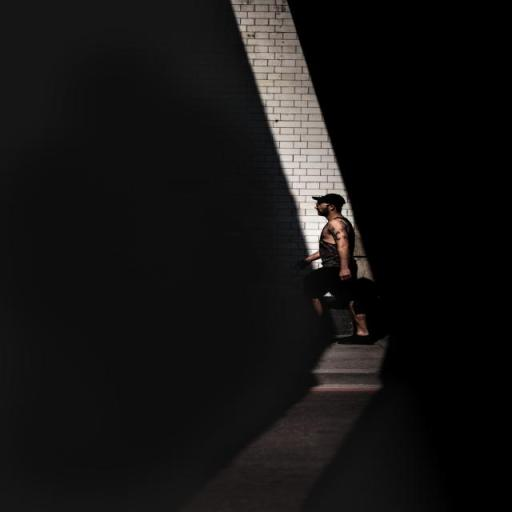Persona: (312, 194, 379, 346)
